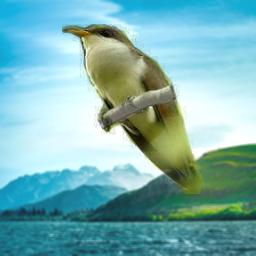Cuckoo: (62, 24, 206, 194)
